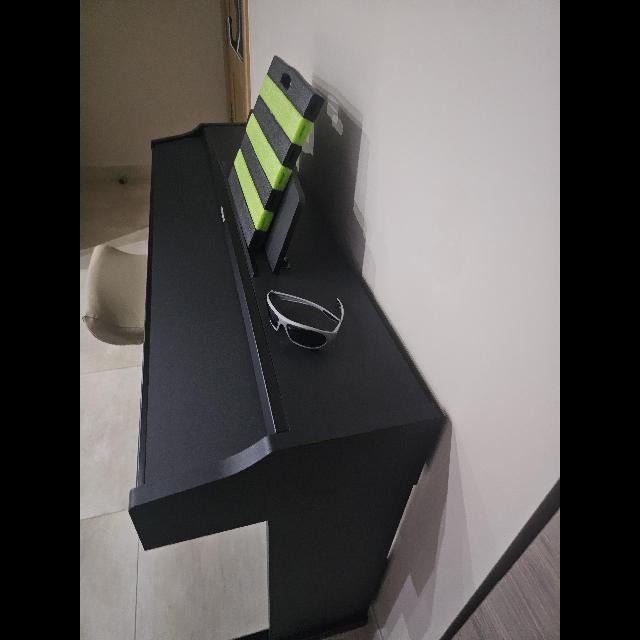Sunglasses: (266, 290, 344, 350)
